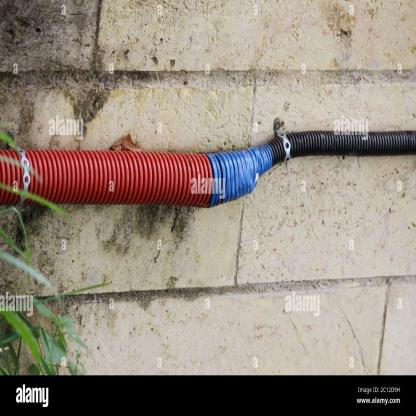PVC: (0, 131, 416, 207)
